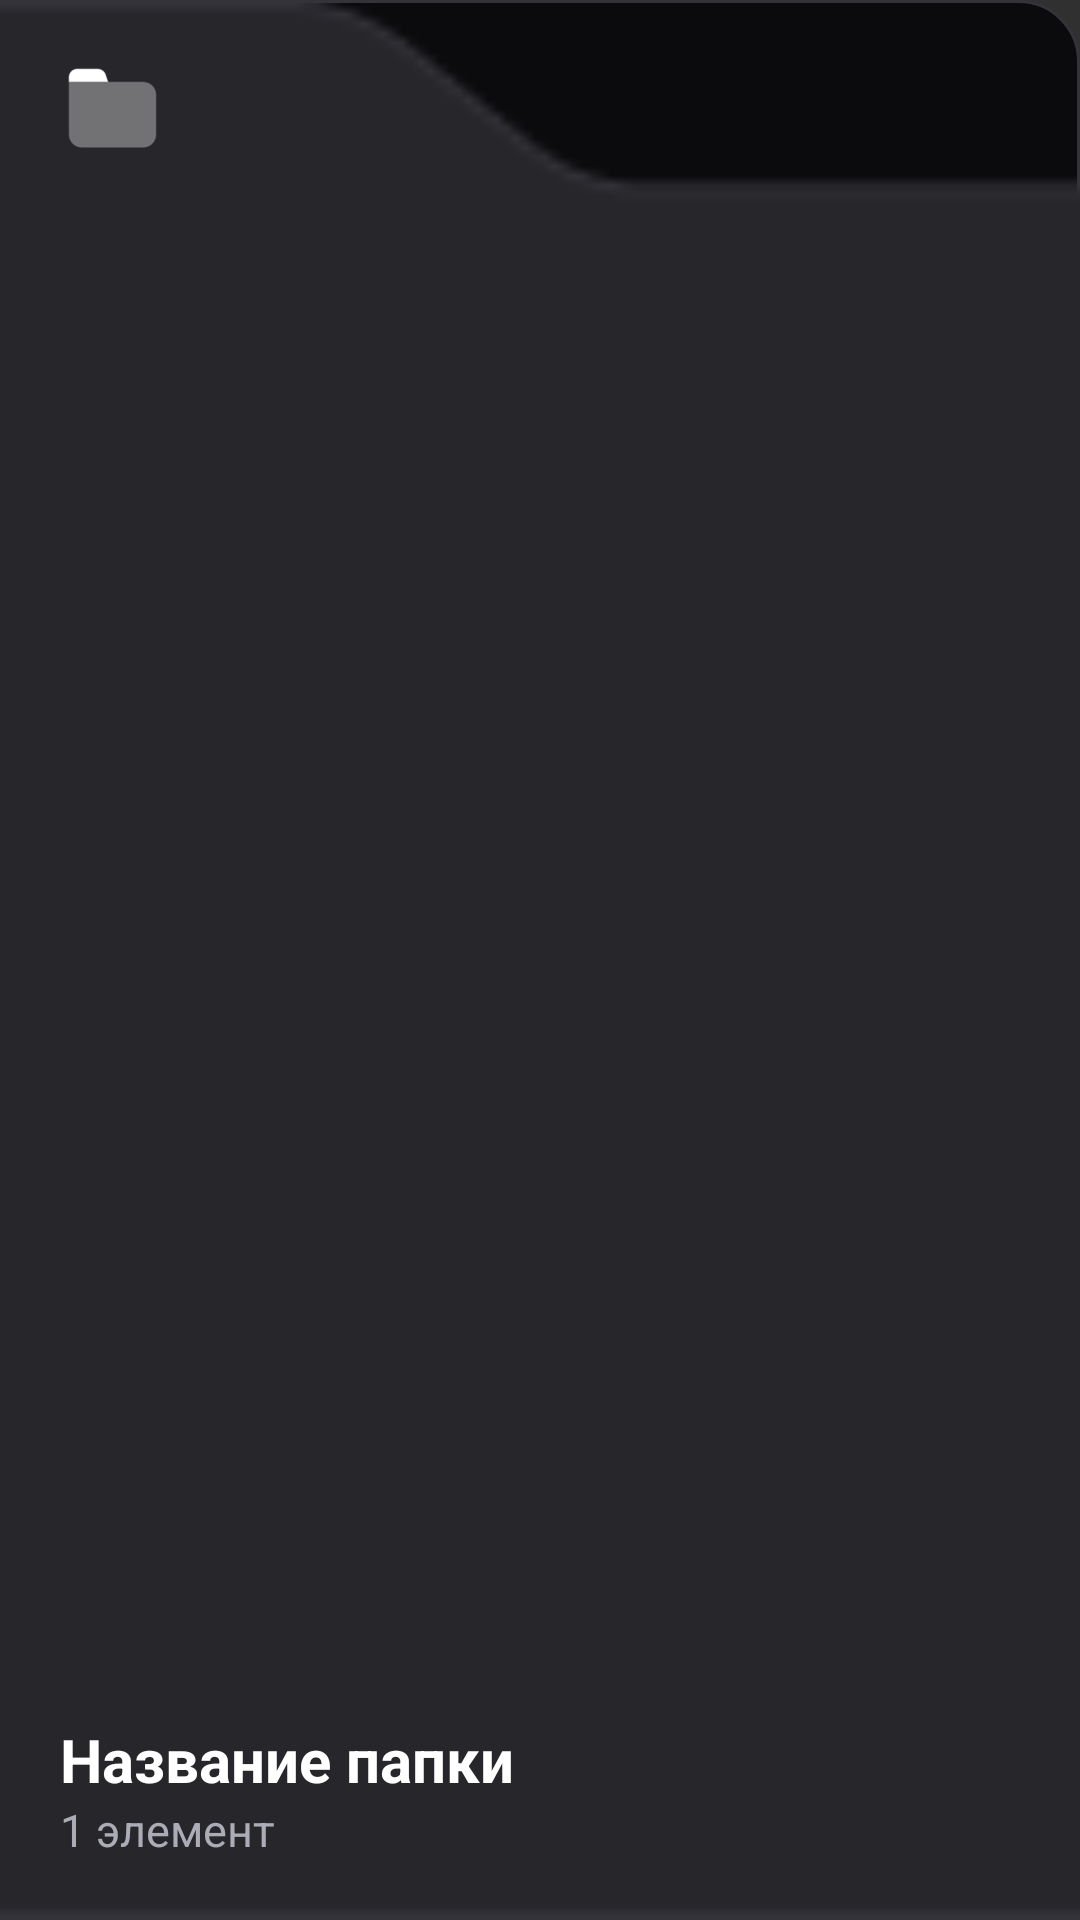

Point at icon controls on the screen. Image size 1080x1920, points as [x,y].
folder: [112,108]
